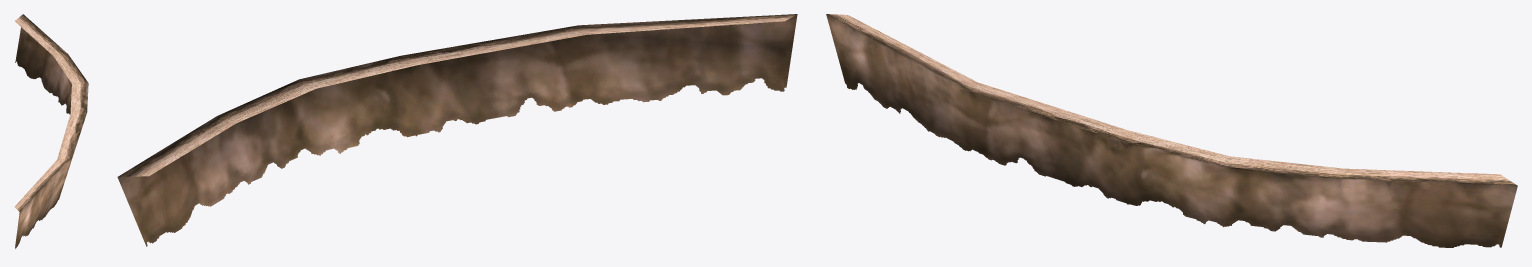
Rendered from OVERHILL_A_01_LINE62.fbx.
3 views of the same model, side by side, from view 1: azimuth 30°, elevation 25°; view 2: azimuth 150°, elevation 25°; view 3: azimuth 270°, elevation 25° (orthographic). The views are drawn at different scales.
Visible parts, largest first — view 1: OVERHILL_A_01_LINE62; view 2: OVERHILL_A_01_LINE62; view 3: OVERHILL_A_01_LINE62.
Boxes of the visible parts, left/top/right/bottom form: OVERHILL_A_01_LINE62: left=14, top=14, right=88, bottom=248; OVERHILL_A_01_LINE62: left=117, top=14, right=797, bottom=246; OVERHILL_A_01_LINE62: left=826, top=14, right=1517, bottom=247.
Size of the model in its own units: 25284 by 5400 by 43022.
Materials: 1 (1 with a texture image).
